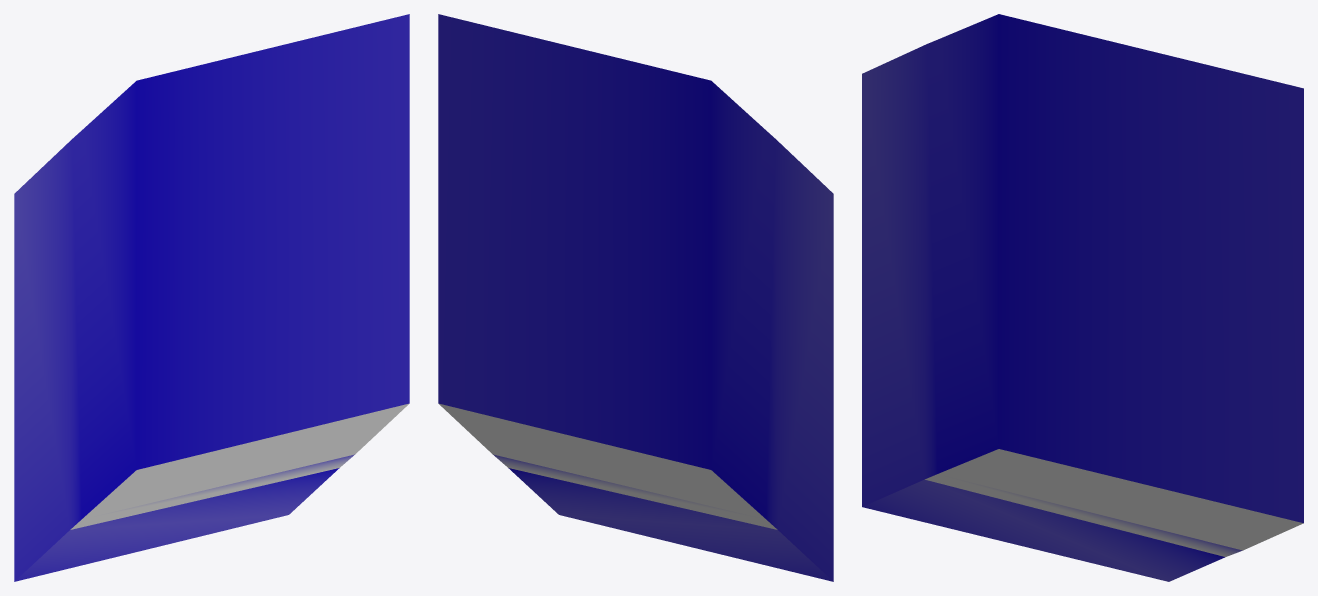
Rendered from OutSideLie_V_Shadow.fbx.
3 views of the same model, side by side, from view 1: azimuth 30°, elevation 25°; view 2: azimuth 150°, elevation 25°; view 3: azimuth 330°, elevation 25° (orthographic). The views are drawn at different scales.
Parts seen in each view (by area): view 1: OutSideLie_V_Shadow; view 2: OutSideLie_V_Shadow; view 3: OutSideLie_V_Shadow.
Boxes of the visible parts, left/top/right/bottom form: OutSideLie_V_Shadow: left=14, top=14, right=409, bottom=581; OutSideLie_V_Shadow: left=438, top=14, right=833, bottom=581; OutSideLie_V_Shadow: left=862, top=14, right=1303, bottom=581.
Bounding box in the file's own units: 4.94 × 5.63 × 1.1e-06.
